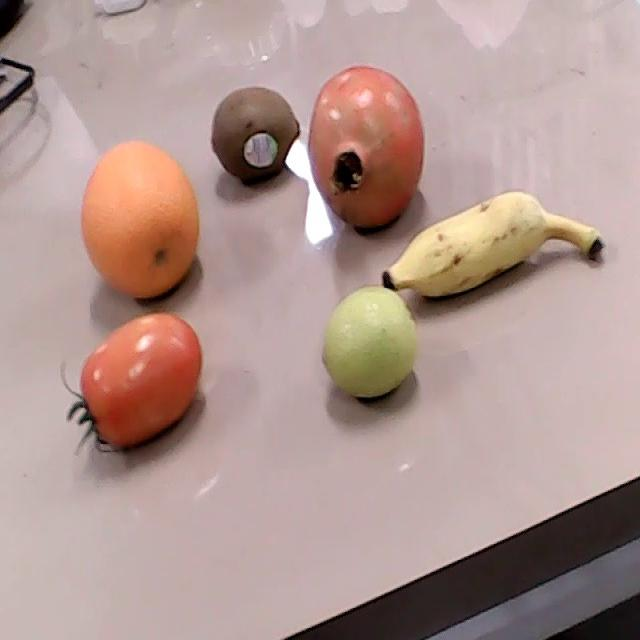kiwi: (211, 86, 300, 179)
lemon: (322, 286, 416, 397)
orange: (81, 141, 198, 297)
pomegranate: (308, 65, 424, 229)
tomato: (61, 311, 202, 454)
